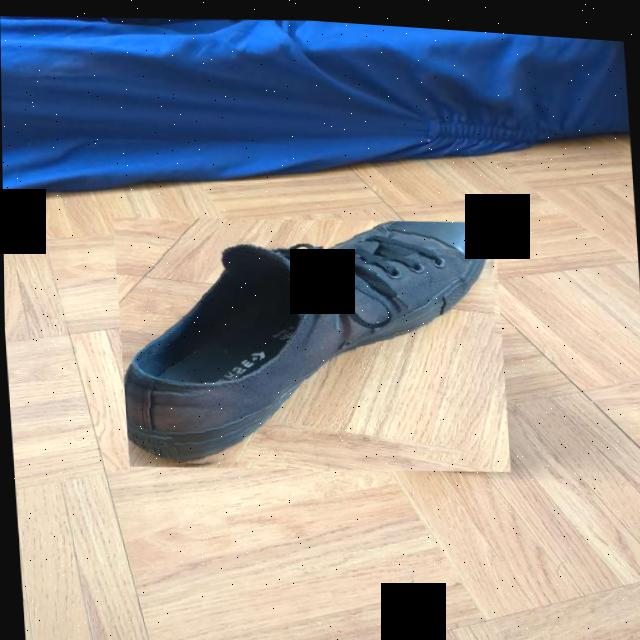shoe: (112, 195, 510, 485)
